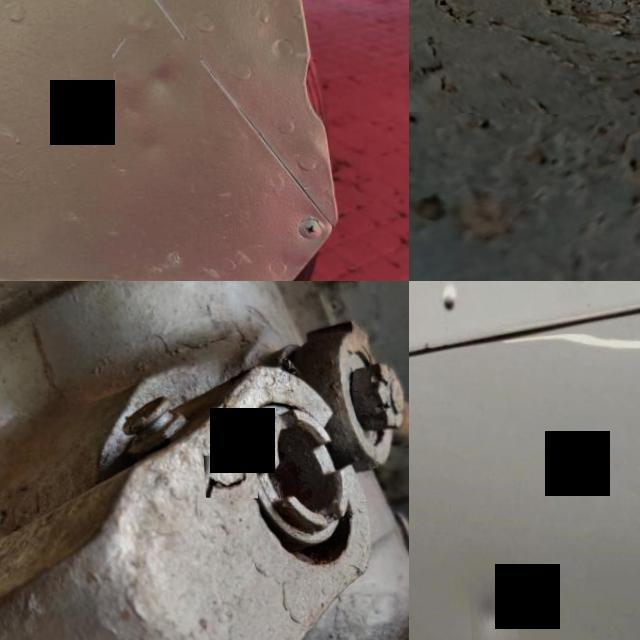Crack: (409, 0, 640, 115), (202, 454, 256, 498)
Dent: (108, 38, 200, 127), (465, 581, 511, 640)
